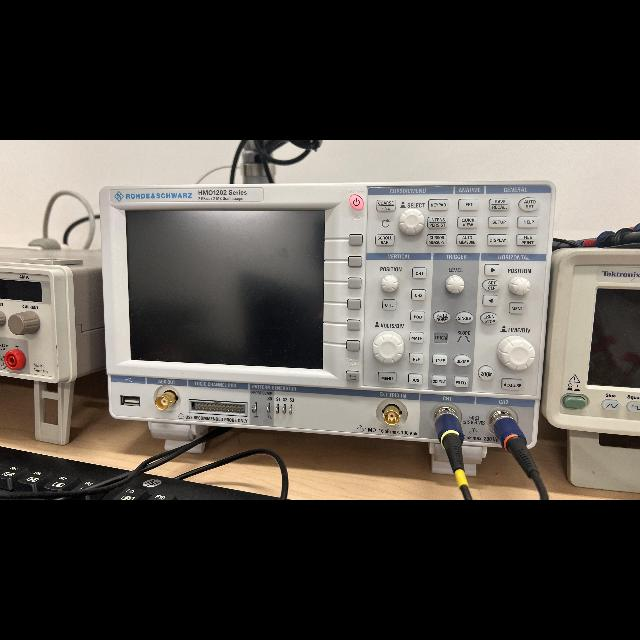Digital-Oscilloscope: (100, 183, 555, 470)
